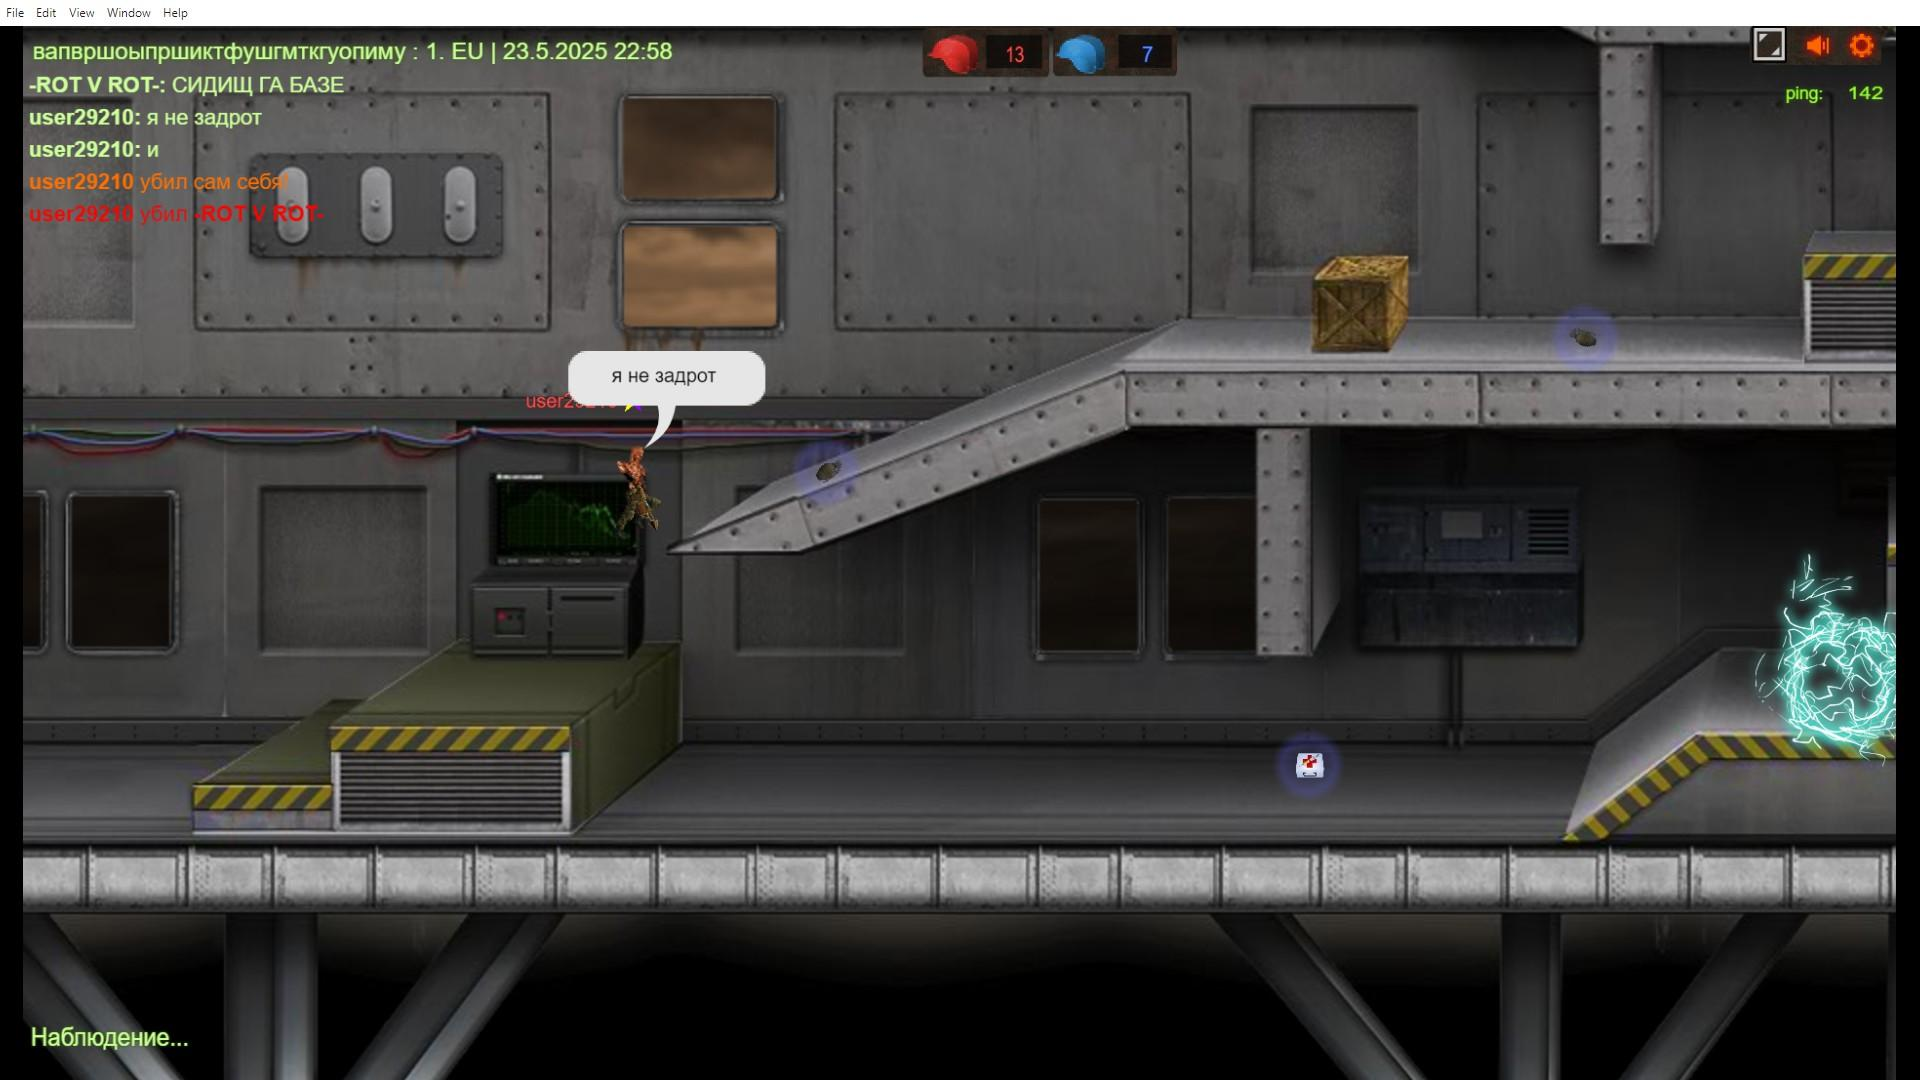enemy: (620, 442, 661, 539)
